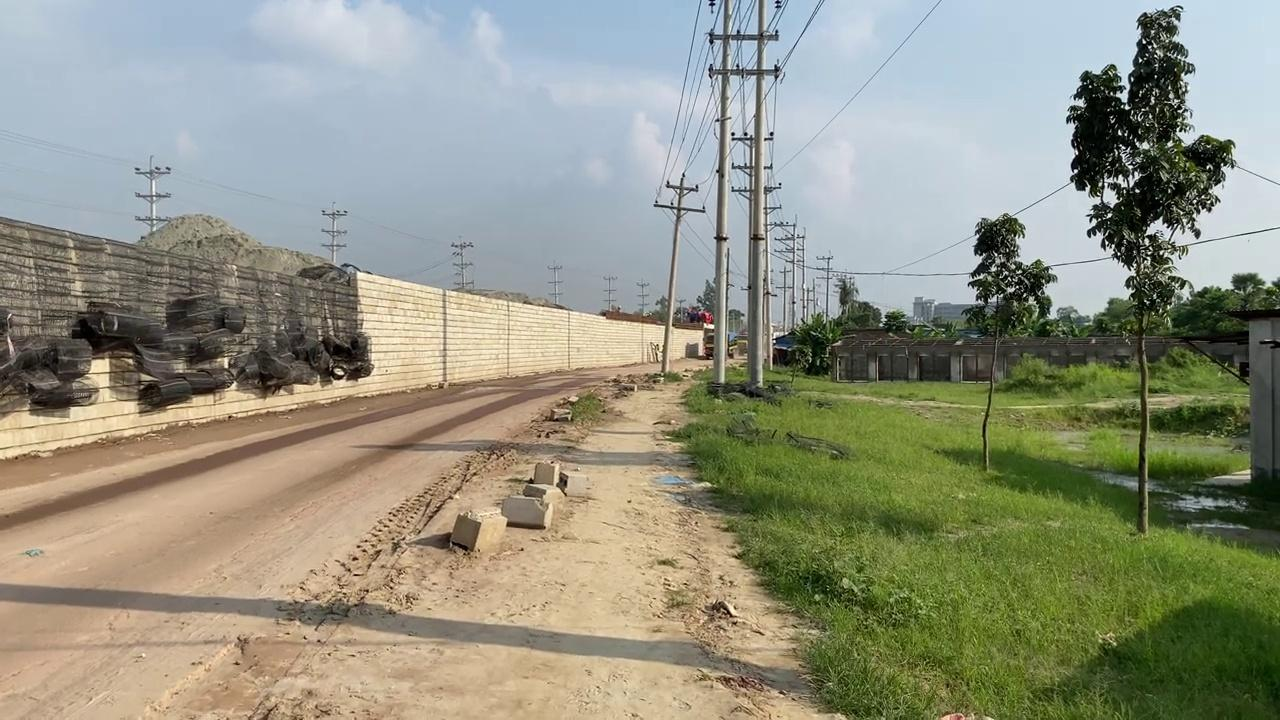Garbage: (1, 293, 373, 408)
Muddy road: (0, 356, 843, 718)
Obstacle: (449, 508, 507, 553), (501, 494, 552, 528), (532, 460, 560, 485)
Pole: (653, 172, 706, 375), (709, 0, 734, 385), (745, 0, 769, 388)
Sidewalk: (1082, 464, 1278, 553)
Traffic-sign: (1064, 3, 1236, 534), (959, 211, 1056, 471)
Upstairs: (0, 214, 705, 460)
